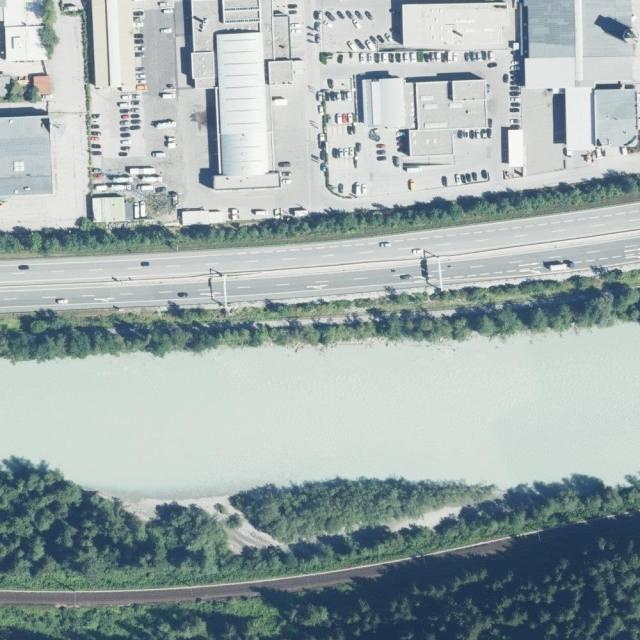building: (213, 31, 270, 177), (402, 2, 508, 49), (0, 107, 53, 196), (86, 0, 134, 89), (2, 0, 59, 61), (258, 0, 294, 86), (526, 0, 574, 57), (593, 87, 638, 147), (364, 78, 404, 127), (565, 87, 593, 151), (417, 82, 450, 129), (525, 57, 575, 88), (408, 129, 453, 156), (448, 100, 486, 130), (214, 173, 280, 190), (91, 193, 126, 223), (178, 206, 223, 226), (451, 78, 487, 101), (507, 128, 525, 168), (32, 75, 53, 96), (372, 81, 380, 124)
greenland: (283, 461, 640, 580), (0, 458, 322, 588), (229, 463, 497, 547)
metalled_road: (0, 533, 534, 624), (267, 60, 311, 216)
